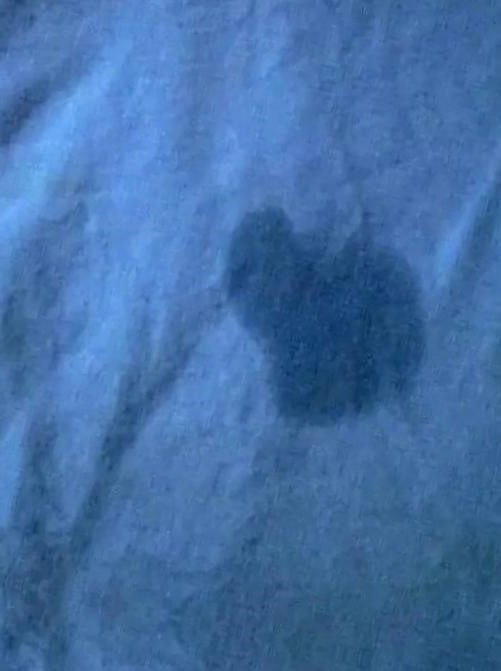stain: (214, 206, 430, 440)
